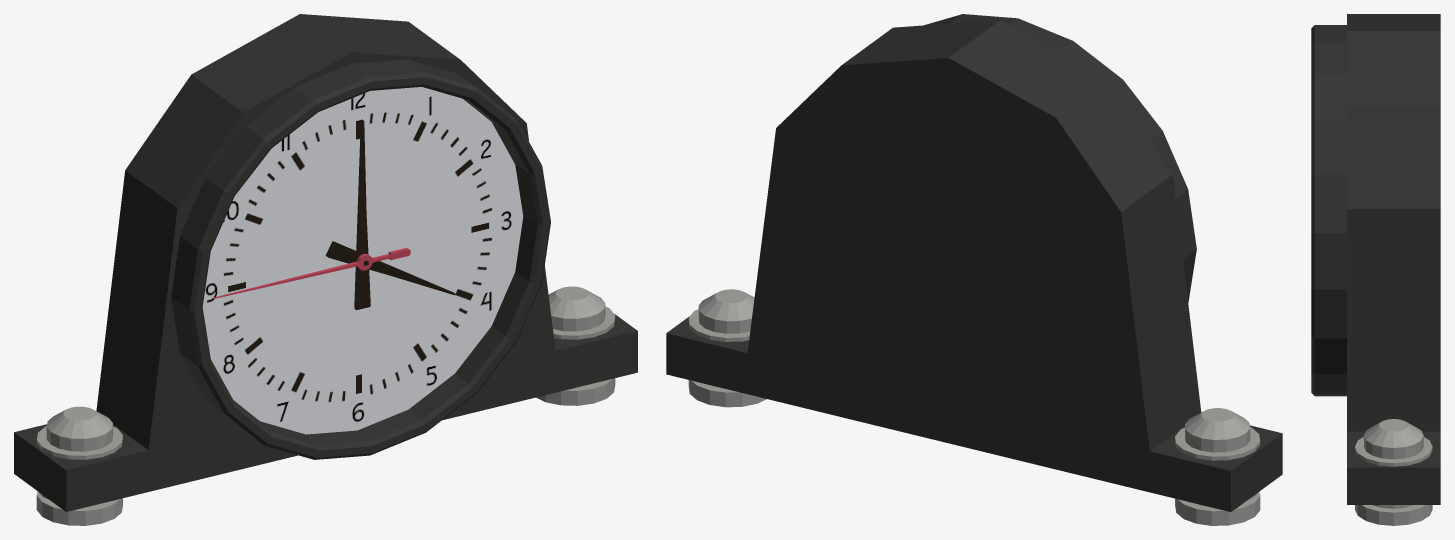
Rendered from 9cb4c63e-4d7b-42f9-8f54-770153291eed.glb.
The picture shows the model from 3 angles, left to right: view 1: azimuth 30°, elevation 25°; view 2: azimuth 150°, elevation 25°; view 3: azimuth 270°, elevation 25°; orthographic projection. The views are drawn at different scales.
Parts seen in each view (by area): view 1: Analog_Clock_2, b, a, c; view 2: Analog_Clock_2; view 3: Analog_Clock_2.
Part boxes in pixels (x1,y1,x2,y2): Analog_Clock_2: (14, 14, 637, 525); b: (354, 119, 370, 310); a: (325, 241, 454, 295); c: (212, 247, 410, 298); Analog_Clock_2: (666, 14, 1282, 525); Analog_Clock_2: (1311, 14, 1440, 525).
Size of the model in its own units: 1580 by 1095 by 345.
Materials: 1 (1 with a texture image).
